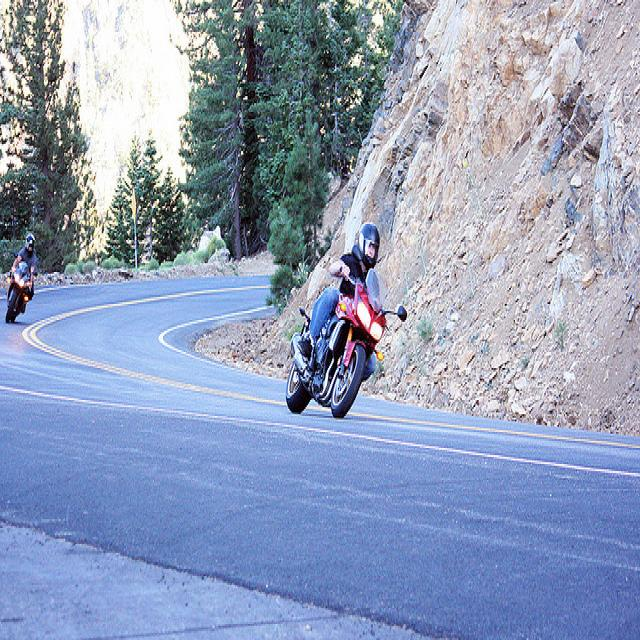motor: (285, 265, 408, 418), (4, 250, 38, 323)
